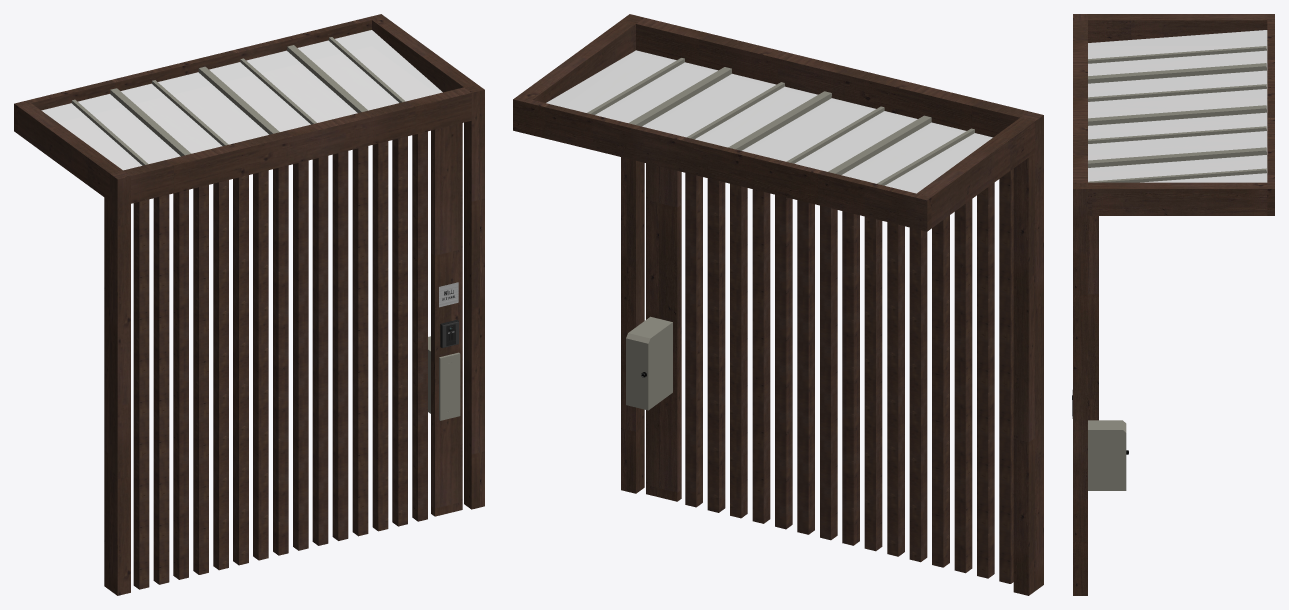
File: hy17-e_darkpine.fbx
3 renders of one model, left to right at view 1: azimuth 30°, elevation 25°; view 2: azimuth 150°, elevation 25°; view 3: azimuth 270°, elevation 25°, orthographic. The views are drawn at different scales.
Visible parts, largest first — view 1: hy17-e_darkpine; view 2: hy17-e_darkpine; view 3: hy17-e_darkpine.
Part boxes in pixels (x1=…): hy17-e_darkpine: x1=14, y1=14, x2=484, y2=595; hy17-e_darkpine: x1=513, y1=14, x2=1043, y2=595; hy17-e_darkpine: x1=1072, y1=14, x2=1274, y2=595.
Size of the model in its own units: 277 by 300 by 136.
Materials: 15 (12 with a texture image).
